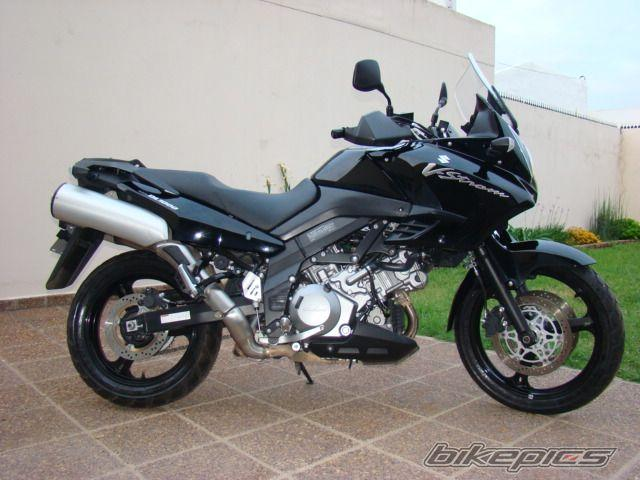摩托车: (41, 82, 634, 427)
